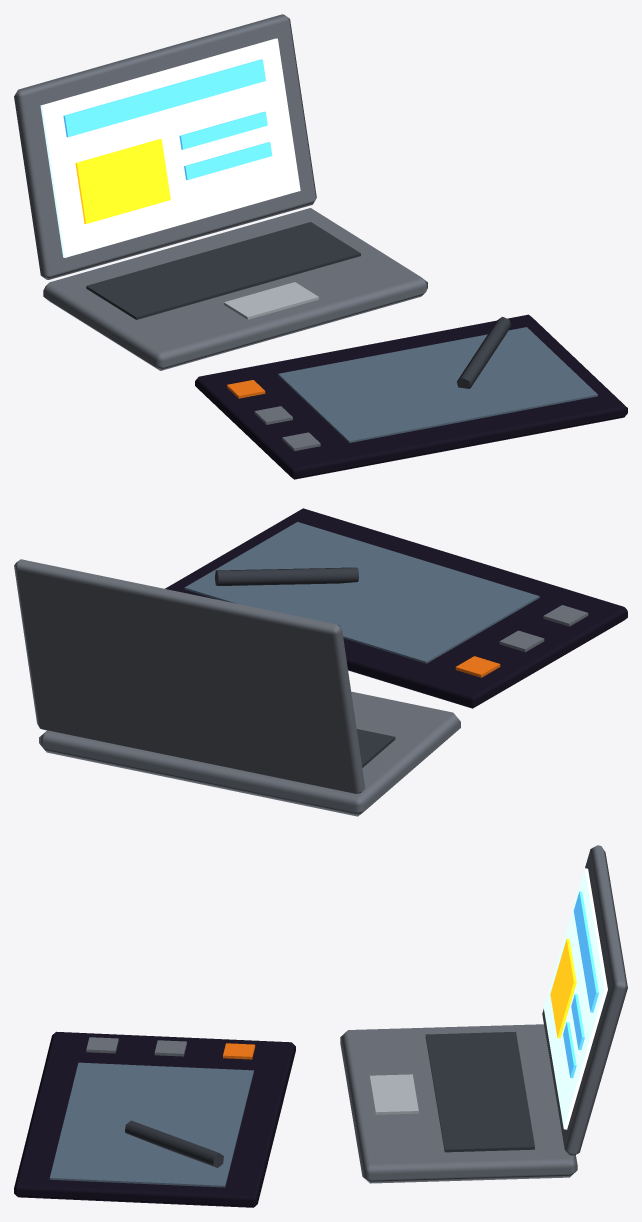
The model's file is station_intake_ausstattung_1_1.glb.
3 views of the same model, one above another, from view 1: azimuth 30°, elevation 25°; view 2: azimuth 150°, elevation 25°; view 3: azimuth 270°, elevation 25° (orthographic). The views are drawn at different scales.
Visible parts, largest first — view 1: station_intake_ausstattung_1_1; view 2: station_intake_ausstattung_1_1; view 3: station_intake_ausstattung_1_1.
Part boxes in pixels (x1,y1,x2,y2): station_intake_ausstattung_1_1: (14, 14, 627, 479); station_intake_ausstattung_1_1: (14, 508, 627, 816); station_intake_ausstattung_1_1: (14, 845, 627, 1207).
Bounding box in the file's own units: 0.412 × 0.2208 × 0.6262.
